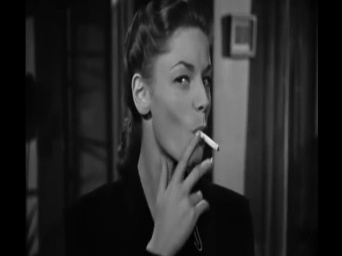smoke: (195, 128, 219, 151)
